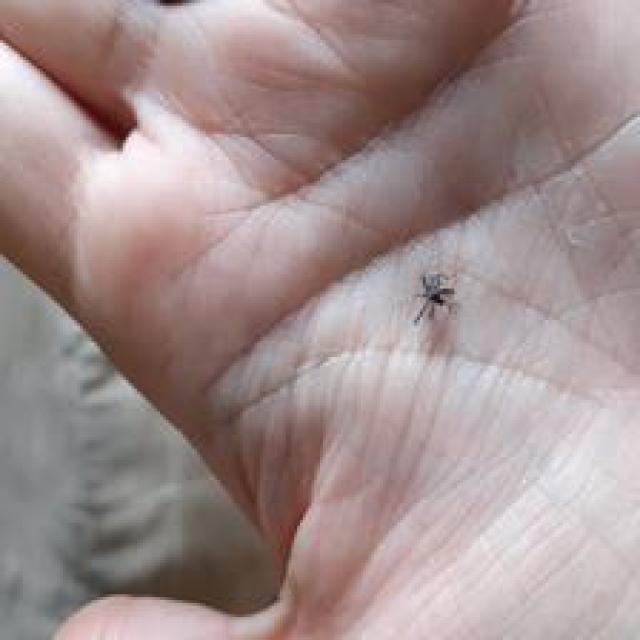Aedes albopictus: (410, 268, 459, 326)
